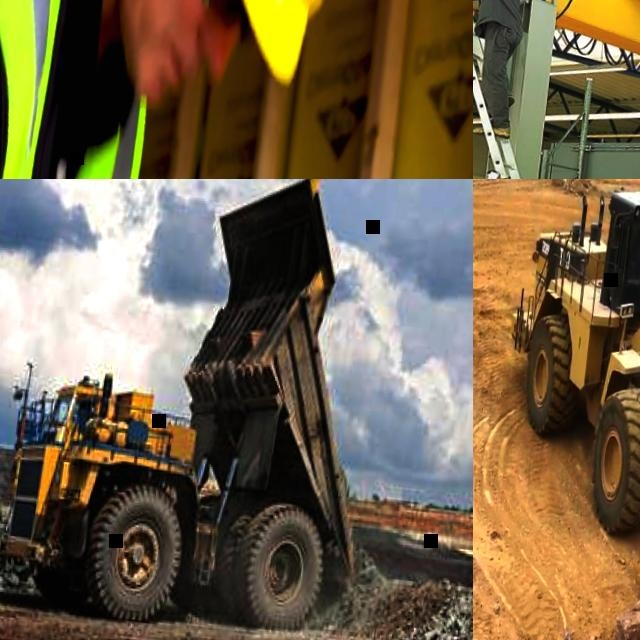Hardhat: (203, 0, 382, 96)
NO-Mask: (101, 0, 207, 110)
NO-Safety Vest: (476, 0, 528, 33)
Person: (0, 0, 383, 179), (473, 0, 540, 141), (626, 225, 640, 274)
Safety Vest: (0, 0, 174, 179)
machinery: (0, 179, 409, 640), (477, 179, 640, 636)
